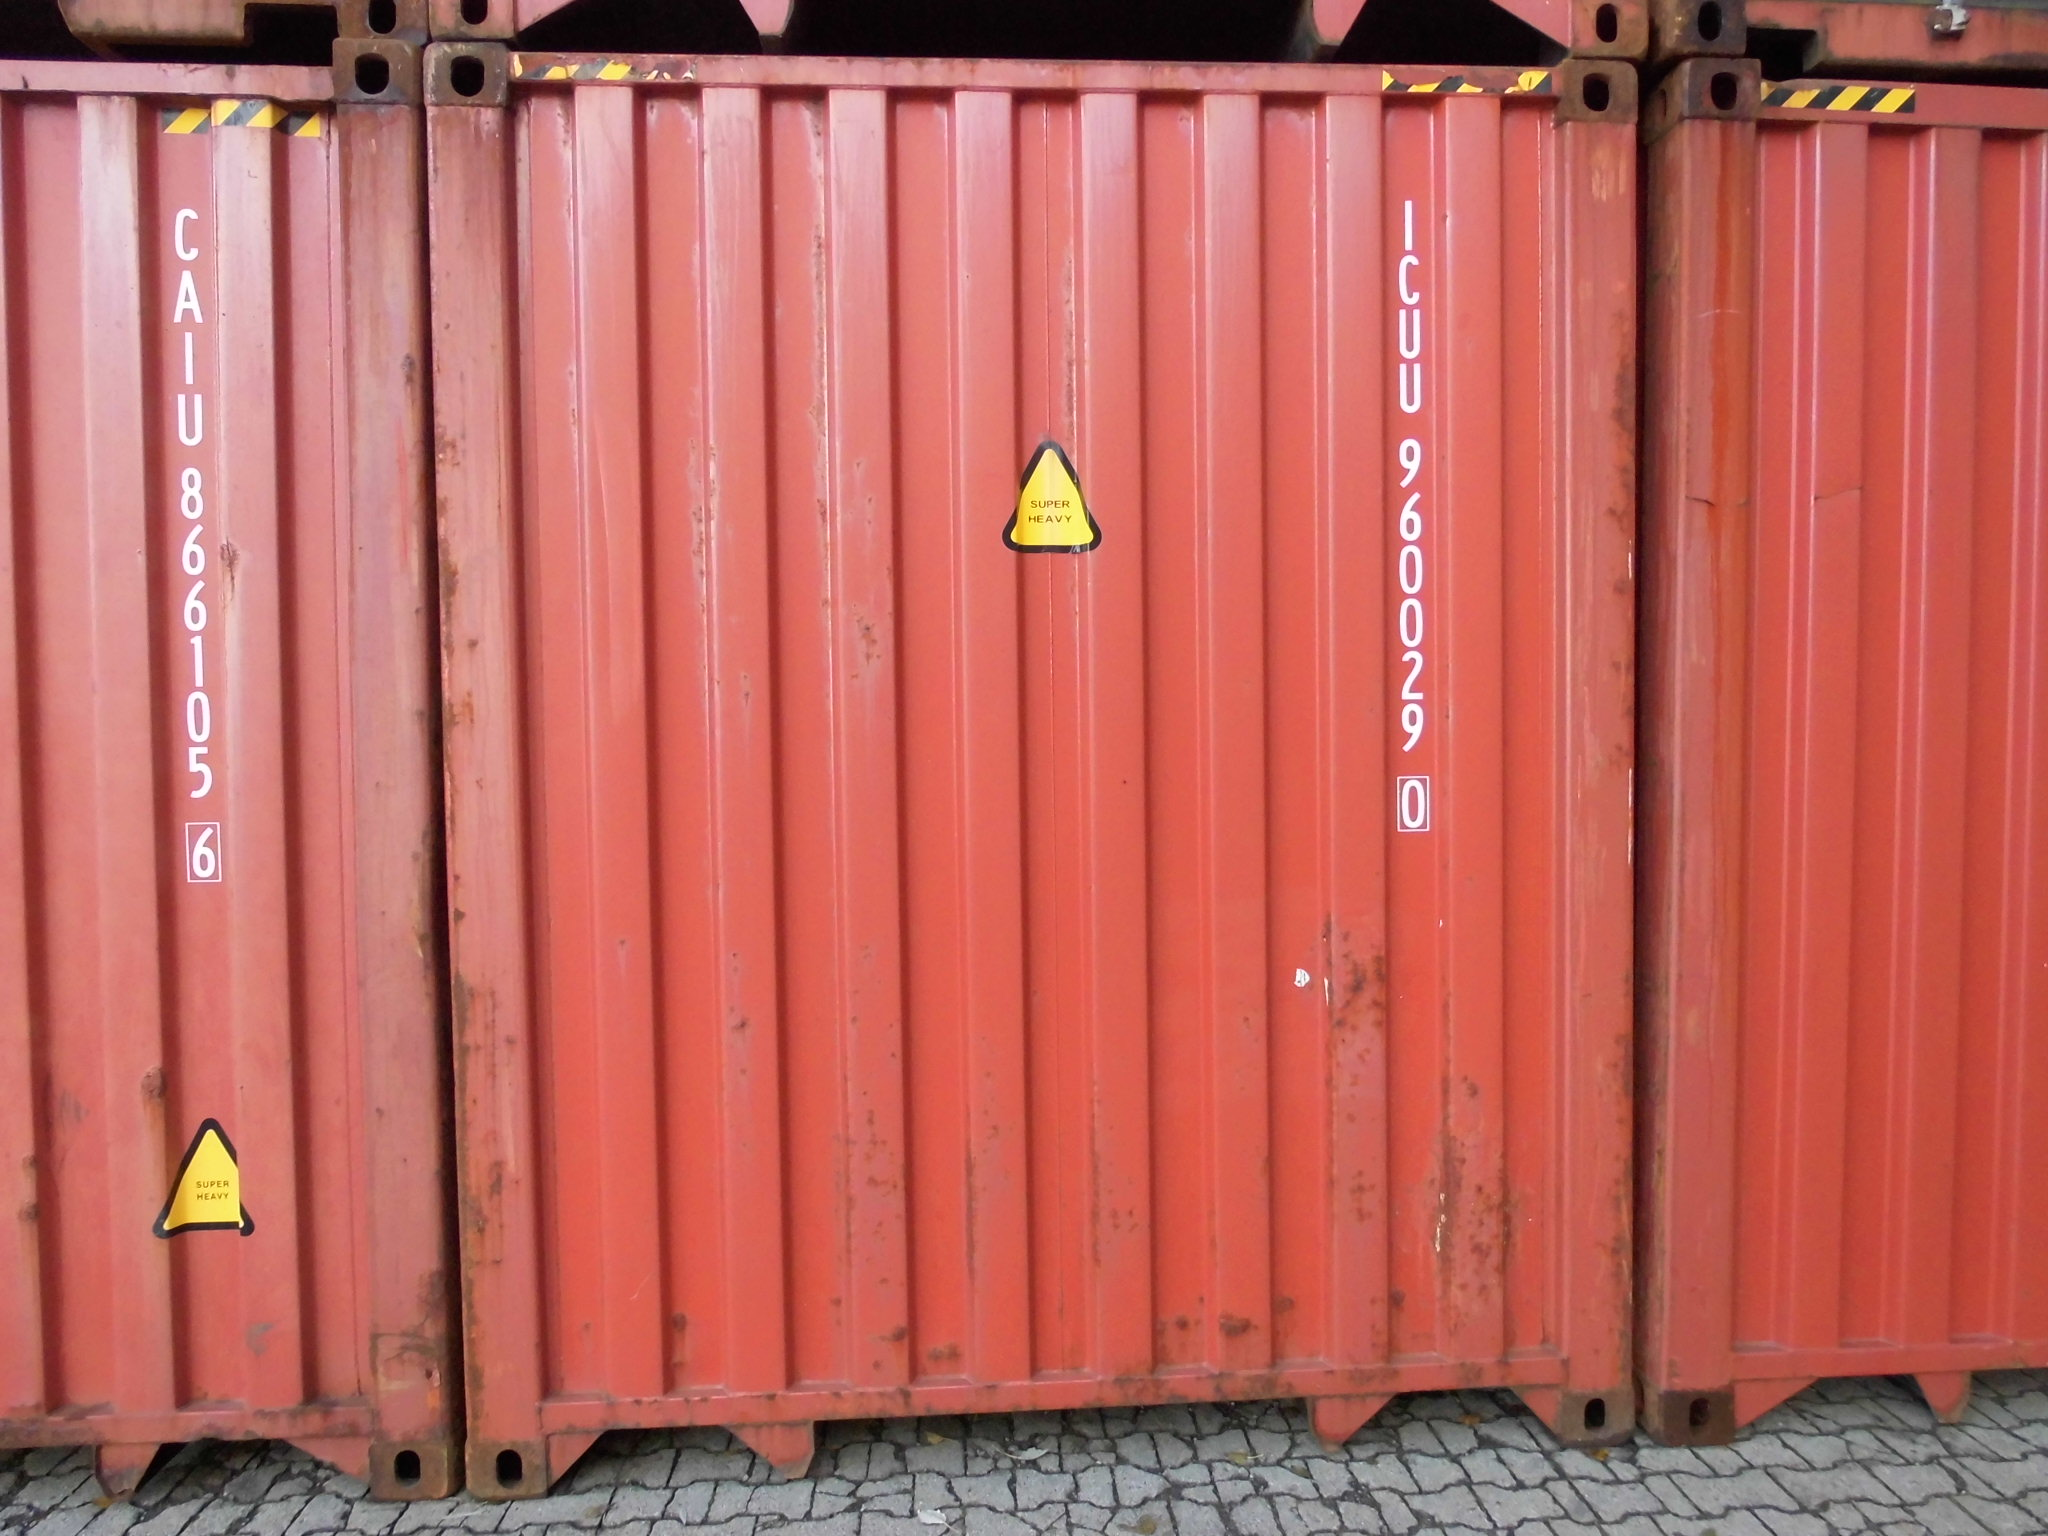container_no_door: (427, 31, 1650, 1512)
